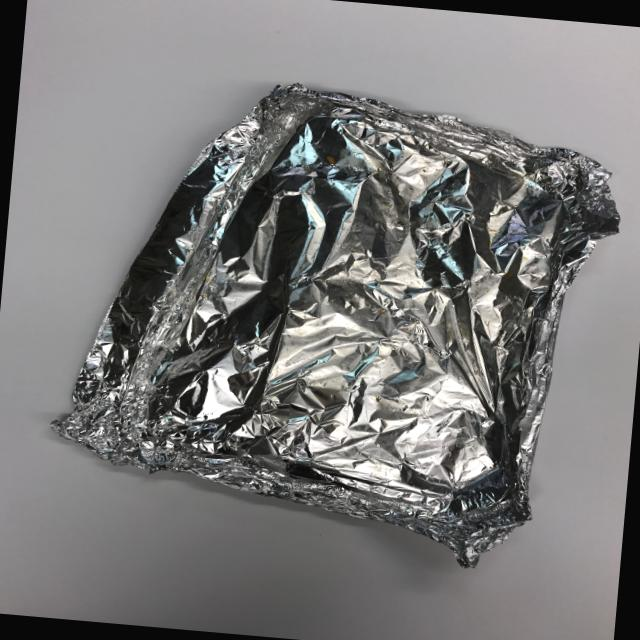Metal: (33, 44, 640, 599)
